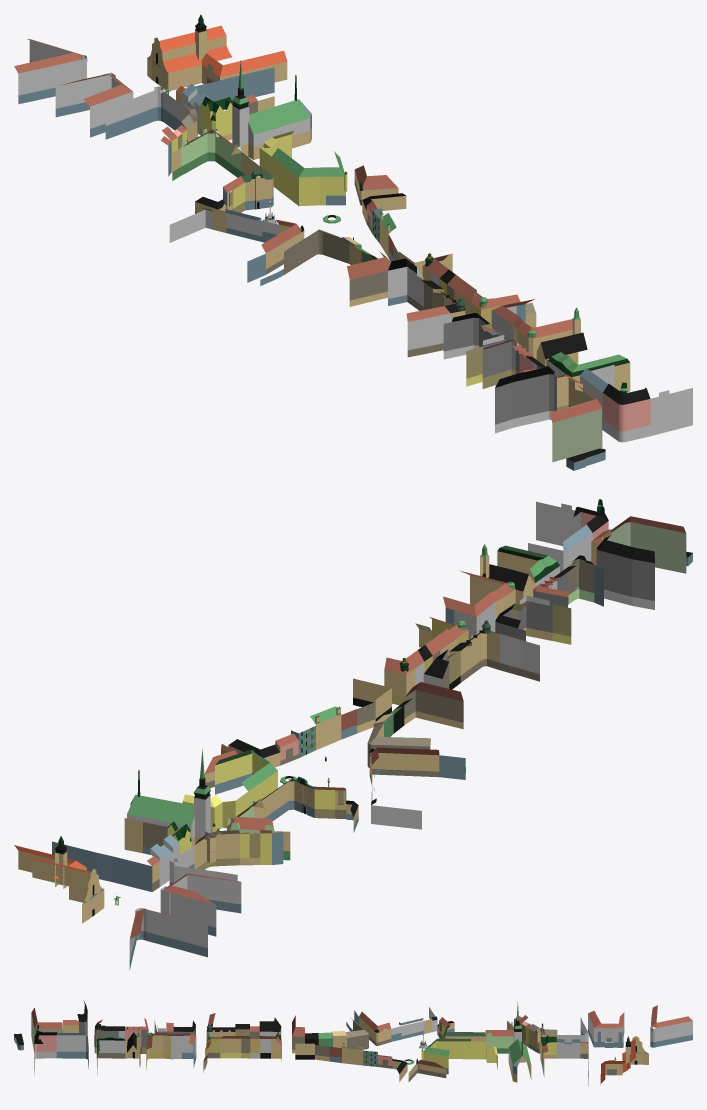
Rendered from brno ulice.fbx.
The picture shows the model from 3 angles, top to bottom: view 1: azimuth 30°, elevation 25°; view 2: azimuth 150°, elevation 25°; view 3: azimuth 270°, elevation 25°; orthographic projection. The views are drawn at different scales.
Visible parts, largest first — view 1: domy vlevo, domy vpravo; view 2: domy vlevo, domy vpravo; view 3: domy vpravo, domy vlevo.
Boxes of the visible parts, x1,y1,x2,y2 form: domy vlevo: [14, 39, 605, 470]; domy vpravo: [147, 14, 692, 442]; domy vlevo: [129, 516, 692, 970]; domy vpravo: [14, 499, 608, 923]; domy vpravo: [34, 1001, 648, 1085]; domy vlevo: [14, 1000, 692, 1053].
Size of the model in its own units: 26166 by 9504 by 96694.
